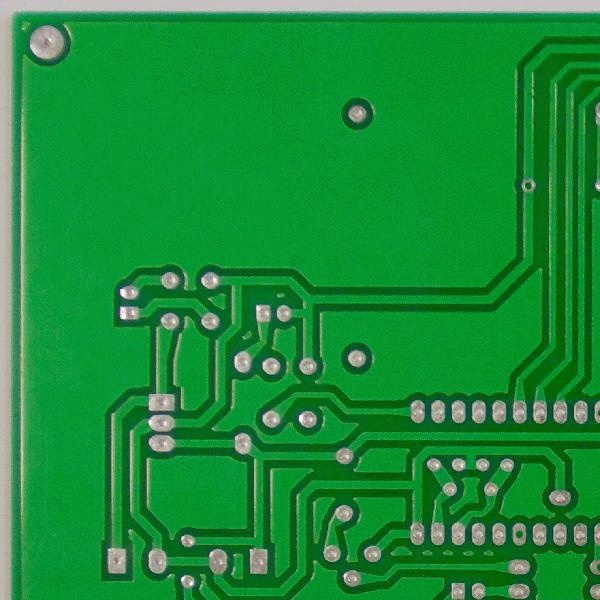missing_hole: (510, 525, 528, 545), (521, 177, 537, 195)
